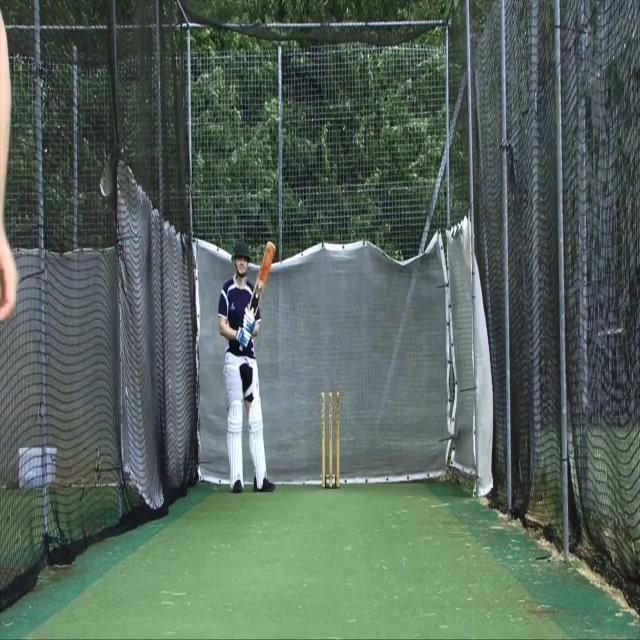batsman: (217, 239, 277, 495)
